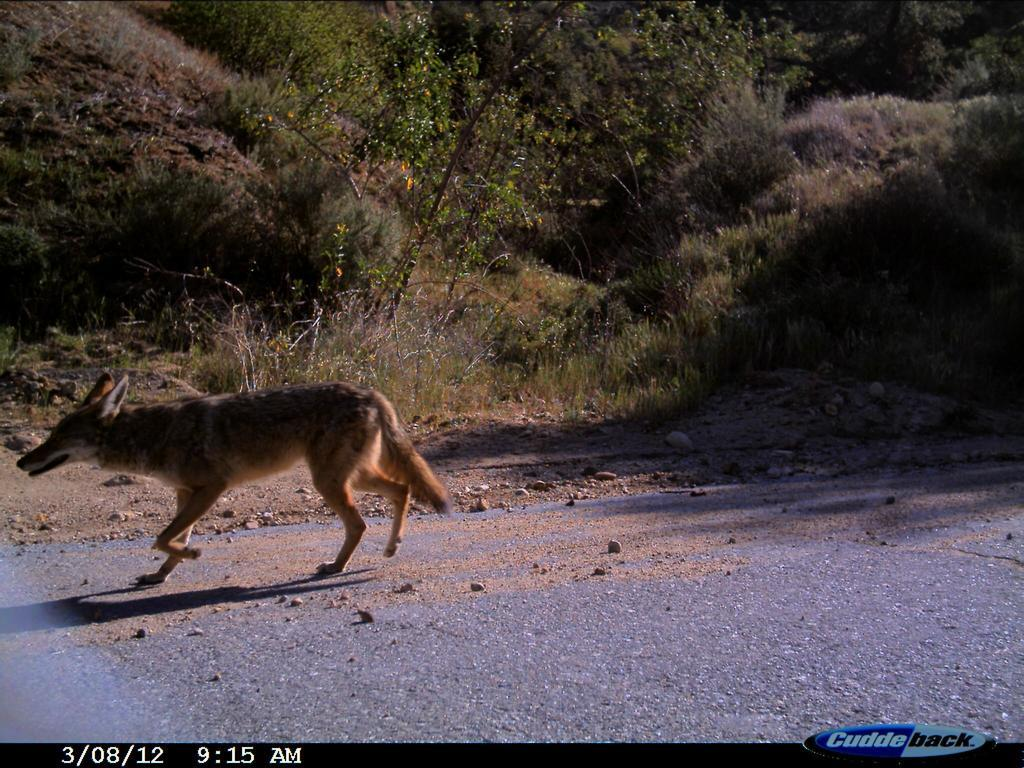coyote: (16, 365, 456, 593)
